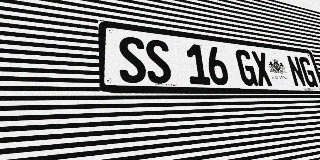1: (184, 43, 211, 85)
6: (205, 45, 230, 85)
G: (234, 49, 258, 86), (298, 56, 318, 87)
N: (286, 55, 307, 87)
S: (118, 35, 147, 83), (144, 38, 173, 84)
X: (250, 51, 273, 86)
